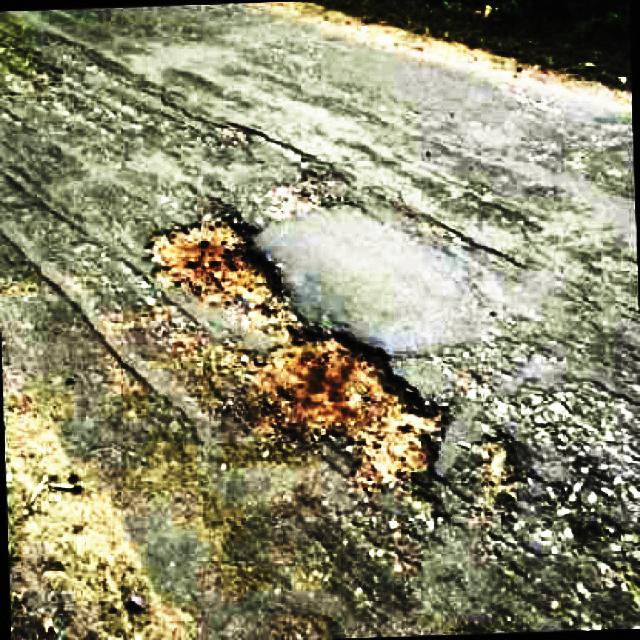pothole: (243, 320, 452, 491), (149, 203, 283, 308), (472, 428, 523, 520)
